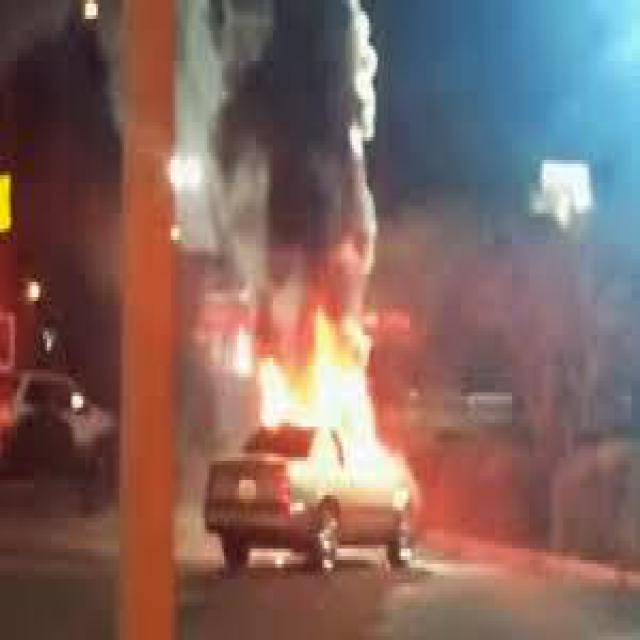fire: (236, 314, 421, 516)
